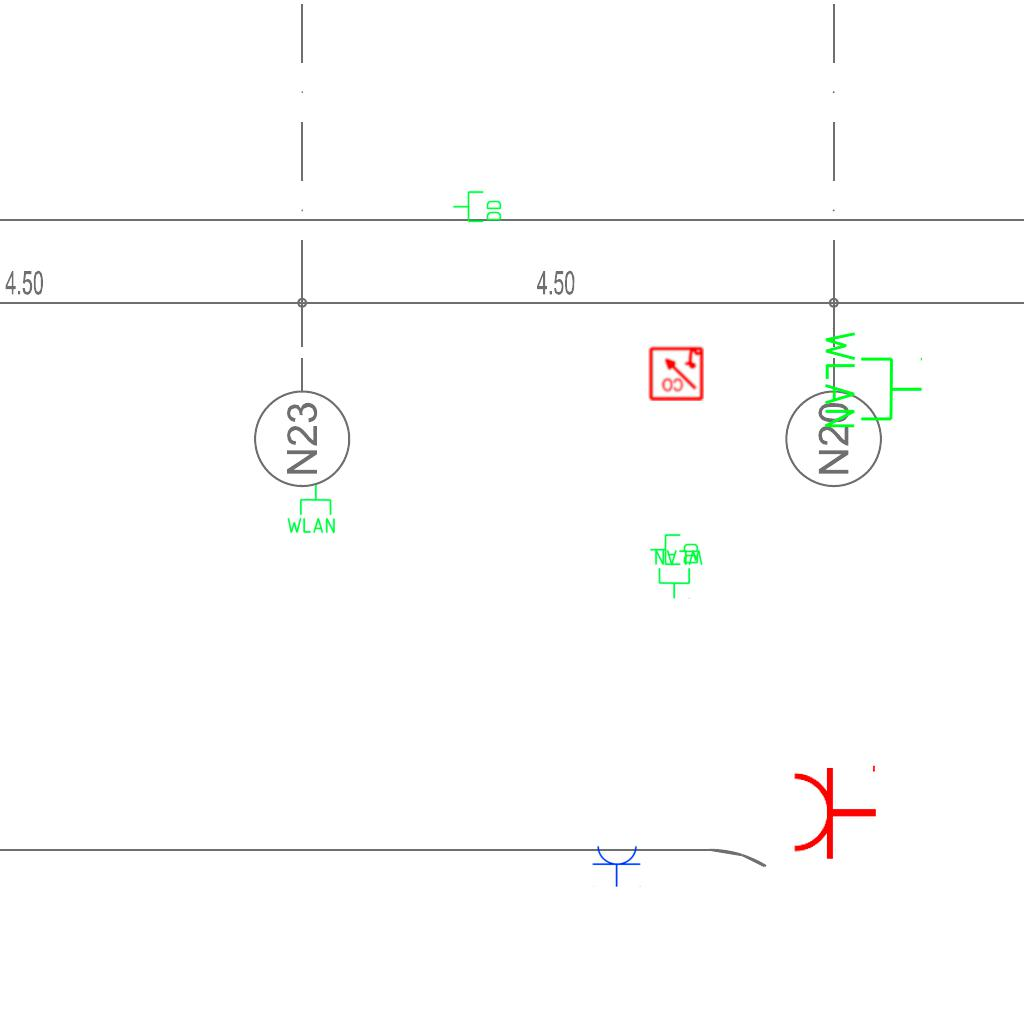Datenanschluss_zweifach: (452, 190, 503, 224), (649, 533, 700, 567)
ROA_Rauchmelder_optisch_mit_Signalgeber_(Sockelsirene): (648, 345, 704, 401)
Schukosteckdose_einfach: (791, 761, 878, 861), (592, 844, 642, 887)
WLAN: (821, 327, 925, 432), (652, 547, 706, 601), (285, 483, 337, 535)
